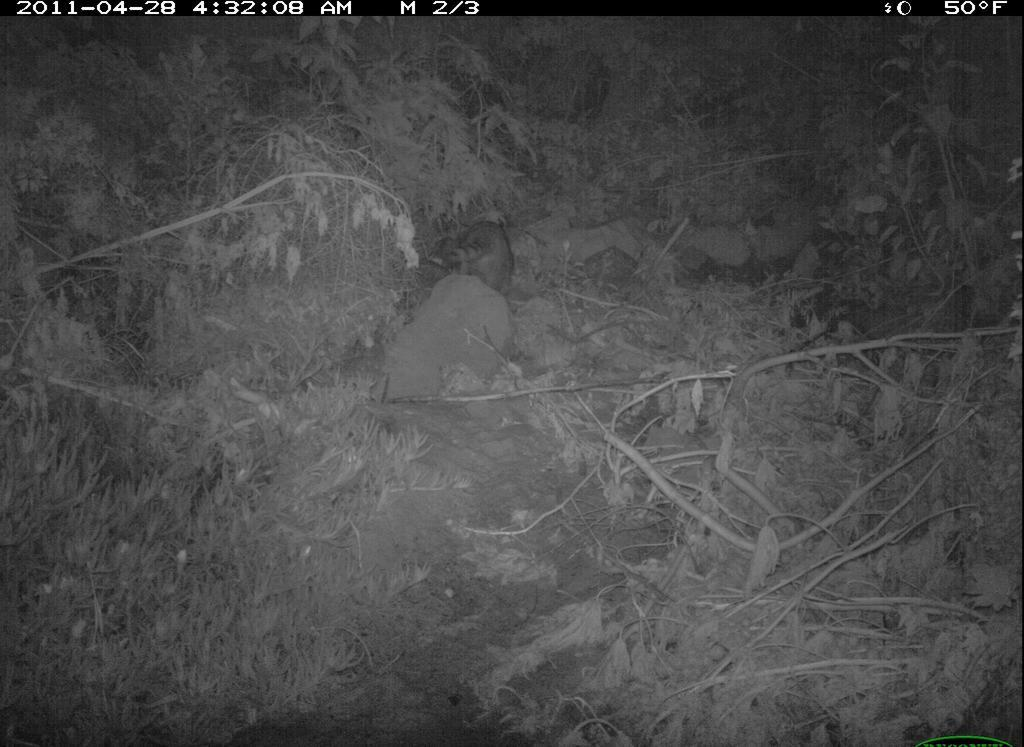raccoon: (434, 209, 524, 306)
